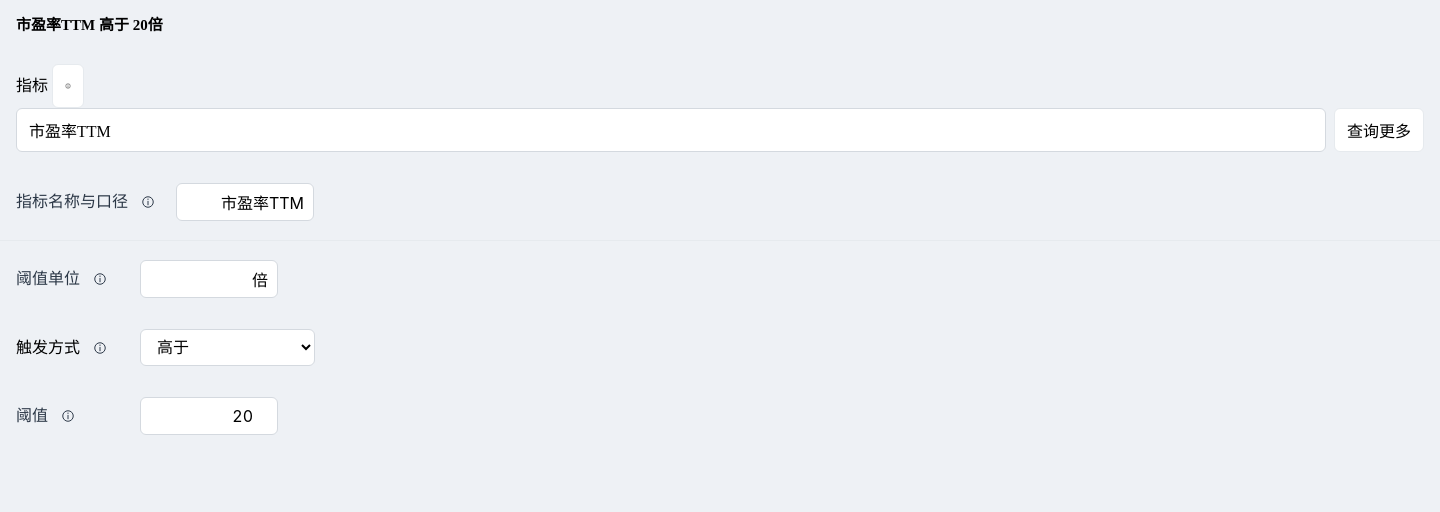
Test: clears the scalar threshold when switching to series comparison and restores scalar editing on return
Expected: the number field named "阈值" holds "20", [140,397,278,435]
Replace the text in the search field named "entry指标搜索" with "双指标": (671, 130) [16,108,1326,152]
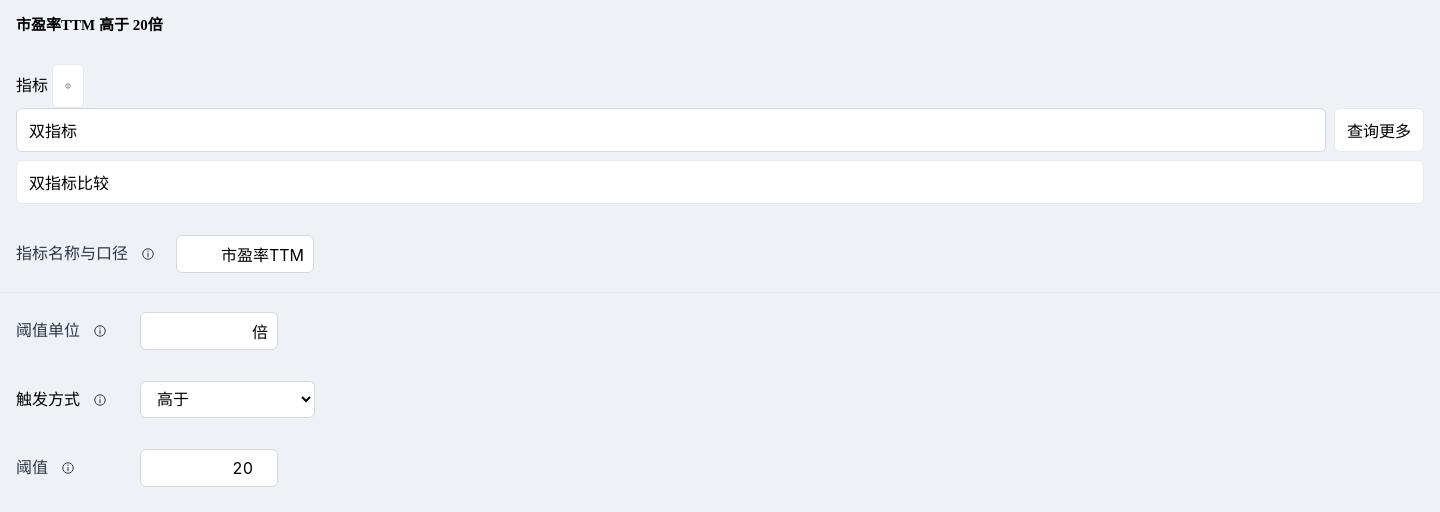
Click the button "双指标比较": (69, 184) [16,160,1424,204]
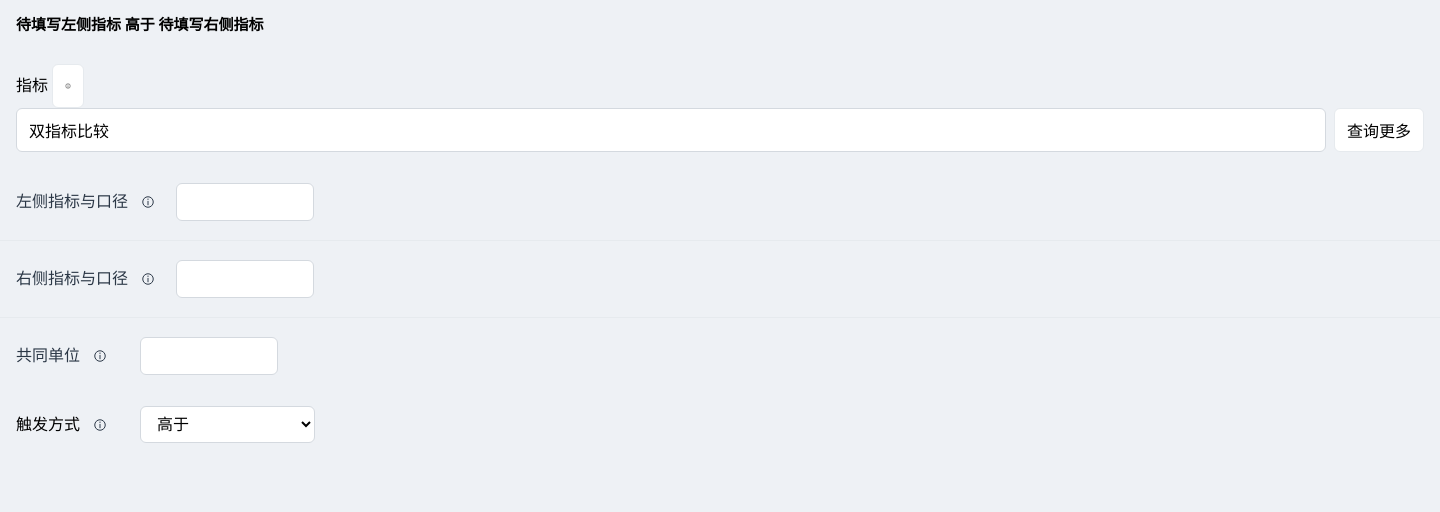
Result: the text "阈值" is gone
Result: the field named "entry左侧指标与口径" is empty at [176,183,314,221]
Replace the text in the search field named "entry指标搜索" with "数值比较": (671, 130) [16,108,1326,152]
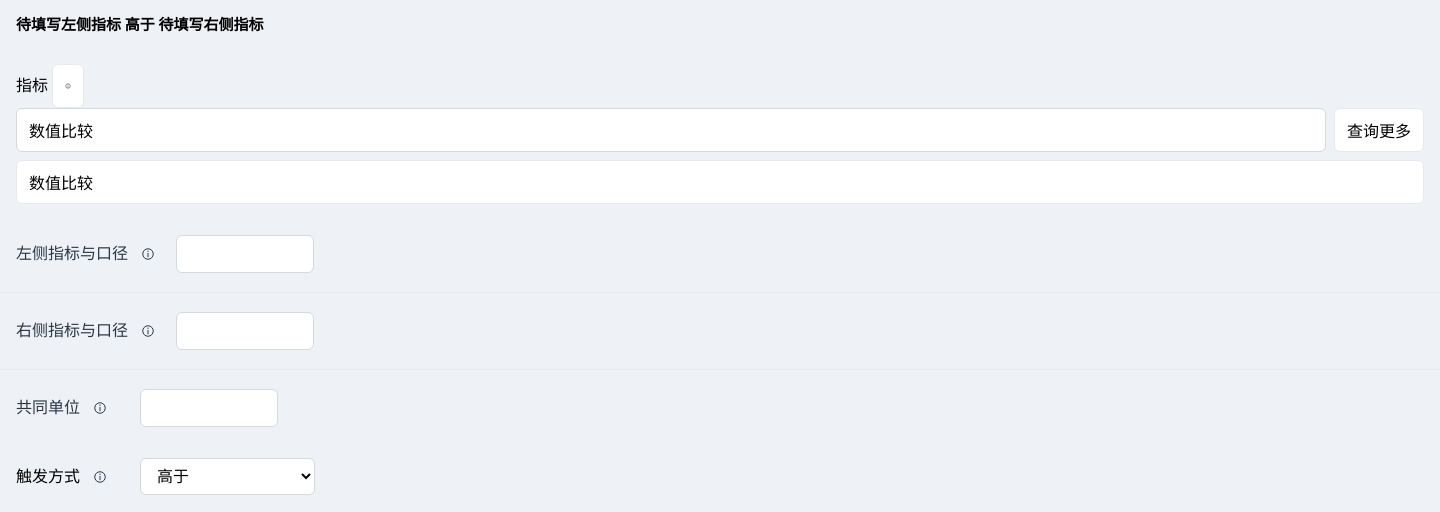
Click the button "数值比较": (61, 184) [16,160,1424,204]
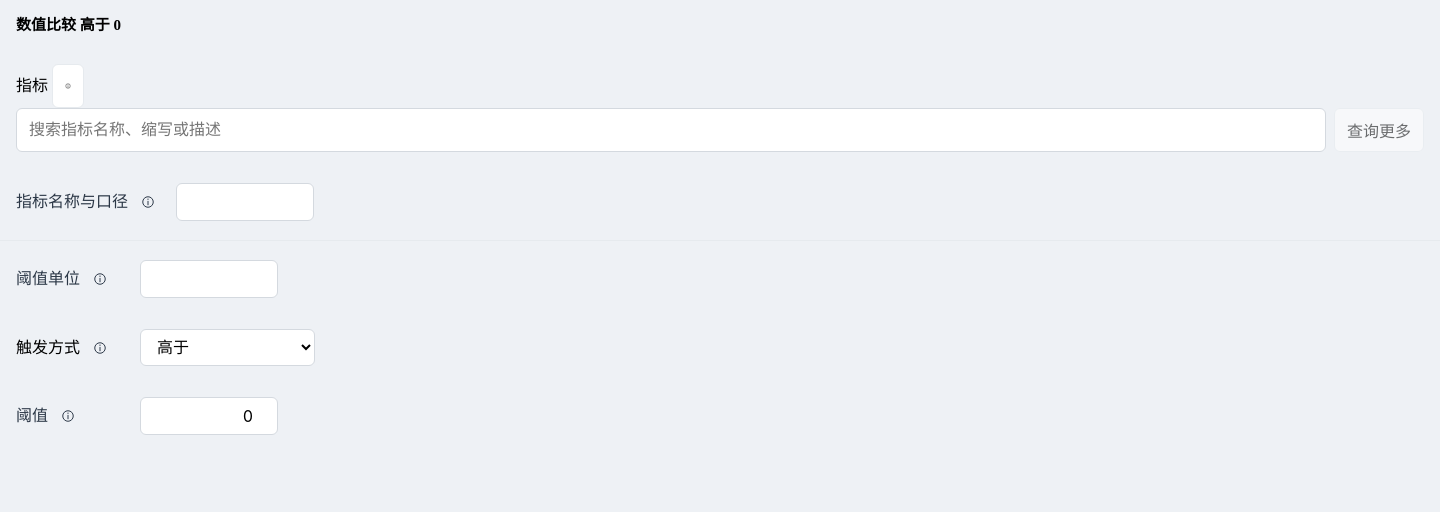
Result: the field named "entry指标名称与口径" is empty at [176,183,314,221]
Result: the number field named "阈值" holds "0" at [140,397,278,435]
